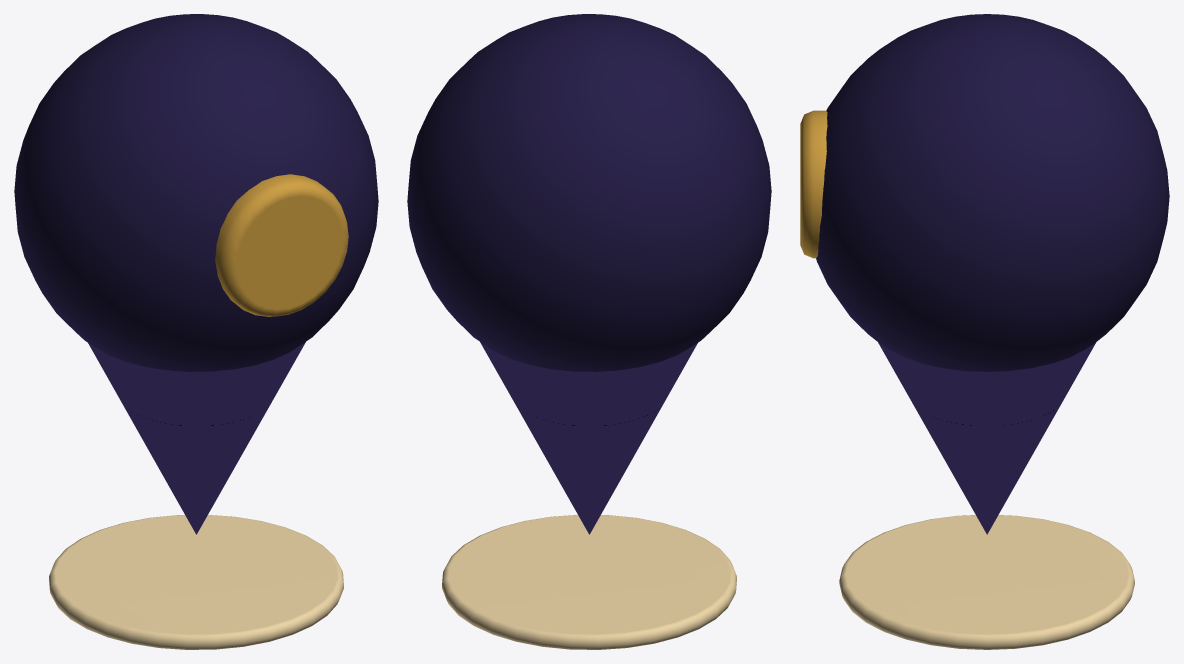
The model's file is pin.glb.
3 views of the same model, side by side, from view 1: azimuth 30°, elevation 25°; view 2: azimuth 150°, elevation 25°; view 3: azimuth 270°, elevation 25° (orthographic).
Parts seen in each view (by area): view 1: pin; view 2: pin; view 3: pin.
Part boxes in pixels (<box>): pin: <box>14,14,378,649</box>; pin: <box>407,14,771,649</box>; pin: <box>800,14,1169,649</box>.
Size of the model in its own units: 0.84 by 1.42 by 0.85.
